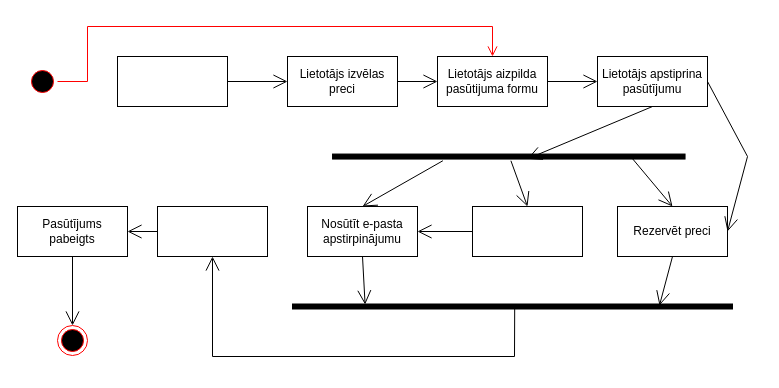
Some shapes in this 779 by 388 pixel diagram are drawn without their labels. The box of each missing label's shape, as (x1, y1, x2, y2) in pixels:
Kļūda: (156, 206, 268, 256)
Sagatavot rēķinu: (472, 206, 582, 256)
Sākumlapa: (116, 56, 228, 106)
